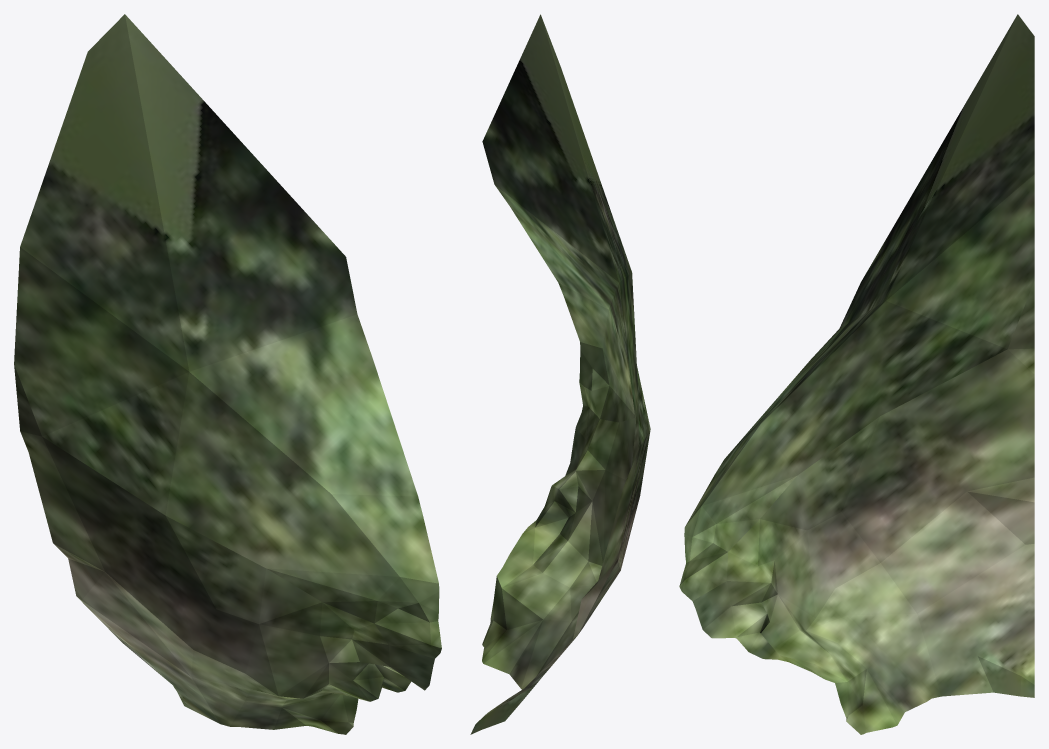
The picture shows the model from 3 angles, left to right: view 1: azimuth 30°, elevation 25°; view 2: azimuth 150°, elevation 25°; view 3: azimuth 270°, elevation 25°; orthographic projection. The views are drawn at different scales.
Bounding box in the file's own units: 7.28 × 20.1 × 9.85.
1 material, 1 textured.
